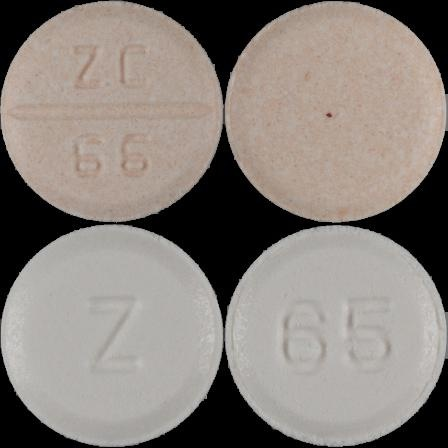68382-020: (0, 0, 224, 224)
